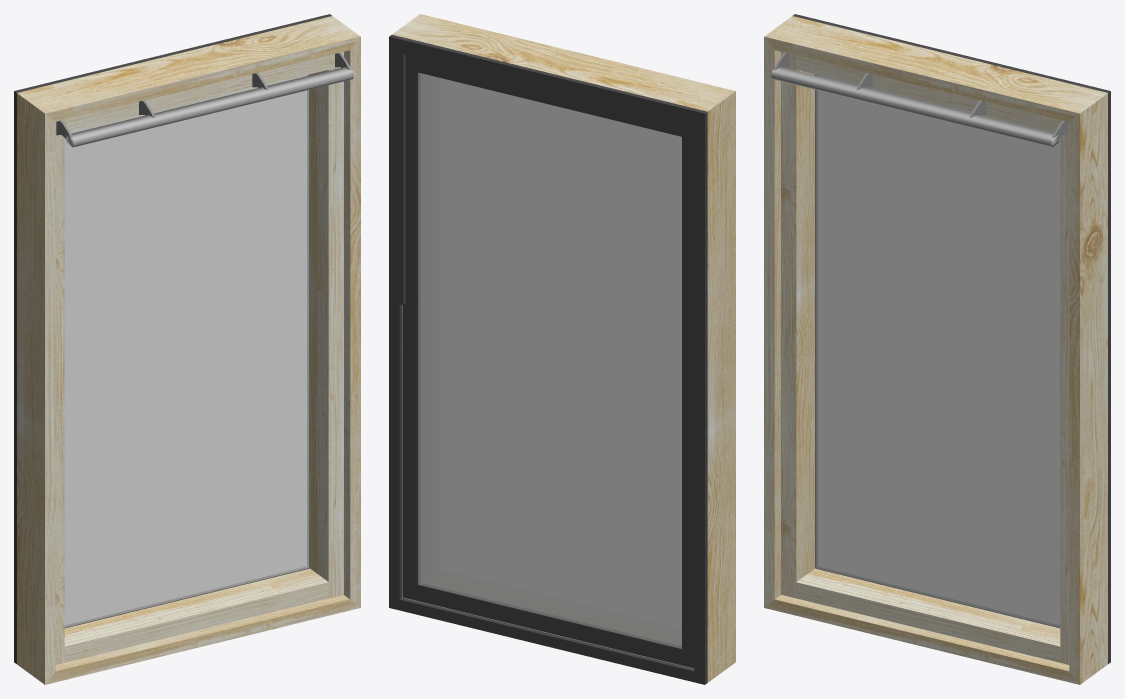
The model's file is sweethome3d-scopia-turn-window-213.glb.
3 views of the same model, side by side, from view 1: azimuth 30°, elevation 25°; view 2: azimuth 150°, elevation 25°; view 3: azimuth 330°, elevation 25° (orthographic).
Visible parts, largest first — view 1: sweethome3d_opening_on_hinge_1_glass, Cube, sweethome3d_opening_on_hinge_1_frameIn, sweethome3d_opening_on_hinge_1_handle, Cube.004, sweethome3d_opening_on_hinge_1_frameOut, sweethome3d_opening_on_hinge_1_handle2; view 2: sweethome3d_opening_on_hinge_1_glass, Cube.004, Cube, sweethome3d_opening_on_hinge_1_frameOut; view 3: sweethome3d_opening_on_hinge_1_glass, Cube, sweethome3d_opening_on_hinge_1_frameIn, sweethome3d_opening_on_hinge_1_handle, Cube.004, sweethome3d_opening_on_hinge_1_frameOut, sweethome3d_opening_on_hinge_1_handle2.
Part boxes in pixels (left/top/right/bottom): sweethome3d_opening_on_hinge_1_glass: left=64, top=74, right=309, bottom=627; Cube: left=17, top=16, right=360, bottom=684; sweethome3d_opening_on_hinge_1_frameIn: left=55, top=51, right=343, bottom=664; sweethome3d_opening_on_hinge_1_handle: left=66, top=67, right=353, bottom=147; Cube.004: left=14, top=14, right=331, bottom=663; sweethome3d_opening_on_hinge_1_frameOut: left=65, top=74, right=309, bottom=628; sweethome3d_opening_on_hinge_1_handle2: left=56, top=52, right=351, bottom=138; sweethome3d_opening_on_hinge_1_glass: left=418, top=72, right=681, bottom=648; Cube.004: left=389, top=34, right=707, bottom=684; Cube: left=392, top=14, right=735, bottom=682; sweethome3d_opening_on_hinge_1_frameOut: left=402, top=55, right=694, bottom=668; sweethome3d_opening_on_hinge_1_glass: left=815, top=74, right=1060, bottom=627; Cube: left=764, top=16, right=1107, bottom=684; sweethome3d_opening_on_hinge_1_frameIn: left=781, top=51, right=1069, bottom=664; sweethome3d_opening_on_hinge_1_handle: left=771, top=67, right=1058, bottom=147; Cube.004: left=793, top=14, right=1110, bottom=663; sweethome3d_opening_on_hinge_1_frameOut: left=815, top=74, right=1059, bottom=628; sweethome3d_opening_on_hinge_1_handle2: left=773, top=52, right=1068, bottom=138.
Size of the model in its own units: 59 by 102 by 13.46.
Materials: 6 (1 with a texture image).
